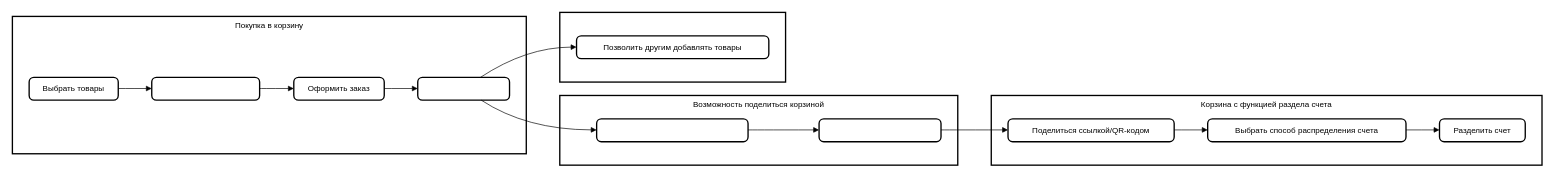
Some shapes in this 1554 by 177 pixel diagram are drawn without their labels. The box of each missing label's shape, as (x1, y1, x2, y2) in pixels:
Добавить в корзину: (151, 76, 260, 100)
Добавление товаров другими людьми: (559, 11, 786, 82)
Получить ссылку на корзину: (596, 118, 748, 142)
Сгенерировать QR-код: (818, 118, 941, 142)
Создать корзину: (417, 76, 510, 100)
